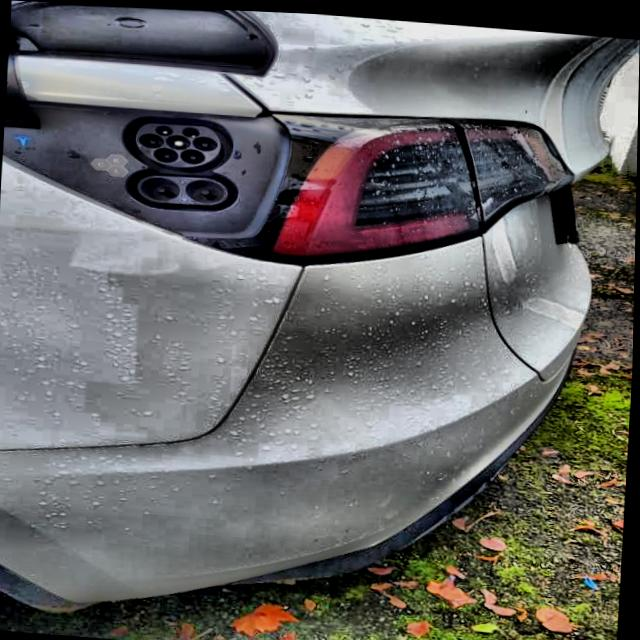inlet: (136, 121, 221, 165)
inlet-above-left: (156, 123, 173, 134)
inlet-above-right: (182, 125, 200, 135)
inlet-below-left: (153, 146, 179, 161)
inlet-below-right: (181, 147, 205, 162)
inlet-center: (166, 133, 191, 148)
inlet-center-left: (139, 131, 164, 146)
inlet-center-right: (193, 134, 217, 149)
